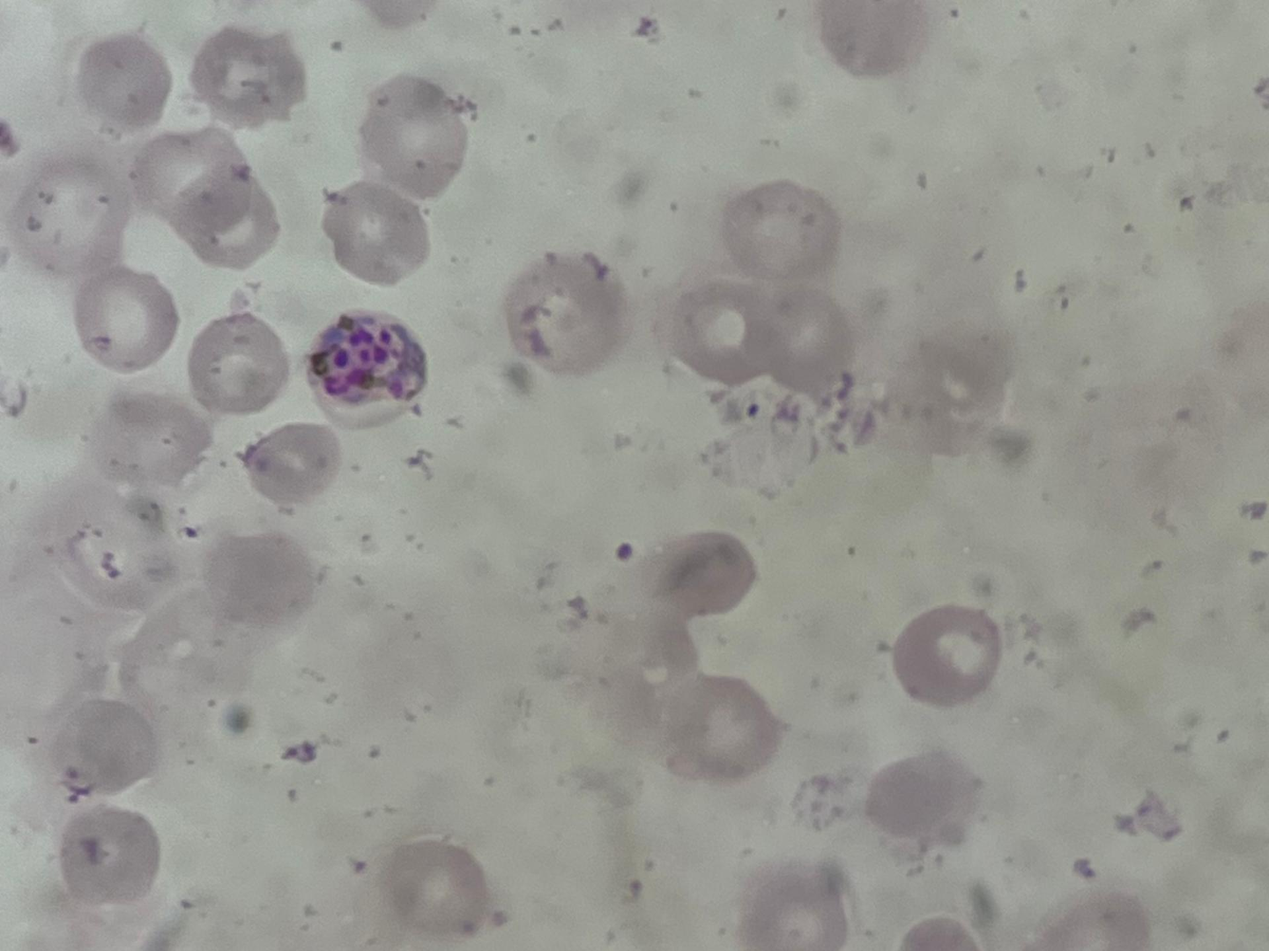Infected: (306, 309, 427, 424)
Uninfected: (7, 150, 133, 277), (507, 250, 634, 376), (656, 677, 784, 781), (359, 76, 464, 201), (369, 837, 494, 942), (188, 23, 304, 128), (132, 121, 250, 224), (863, 750, 987, 848), (663, 280, 776, 386), (721, 180, 839, 278), (169, 166, 279, 271), (638, 528, 757, 625), (50, 695, 161, 798), (892, 605, 1005, 706), (321, 182, 431, 285), (75, 268, 180, 373), (57, 802, 161, 905), (736, 862, 855, 951), (186, 312, 288, 414), (79, 33, 173, 136), (765, 285, 851, 394), (239, 422, 339, 506)
